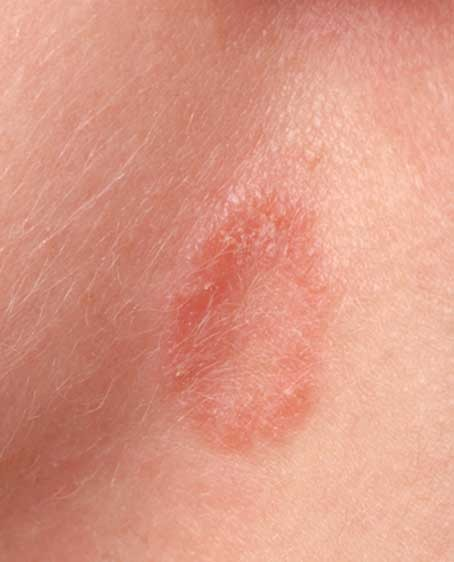Ringworm: (156, 170, 347, 459)
